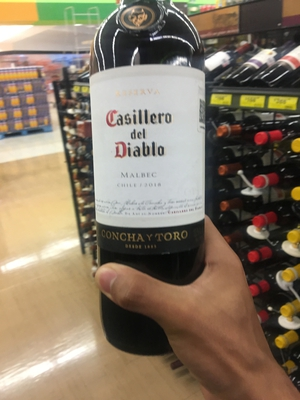casillero del diablo malbec: (84, 18, 222, 329)
